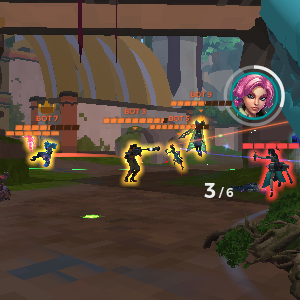model: (258, 148, 288, 201), (119, 138, 143, 185), (189, 114, 210, 158), (38, 135, 61, 172), (167, 140, 184, 172), (25, 133, 34, 150)
